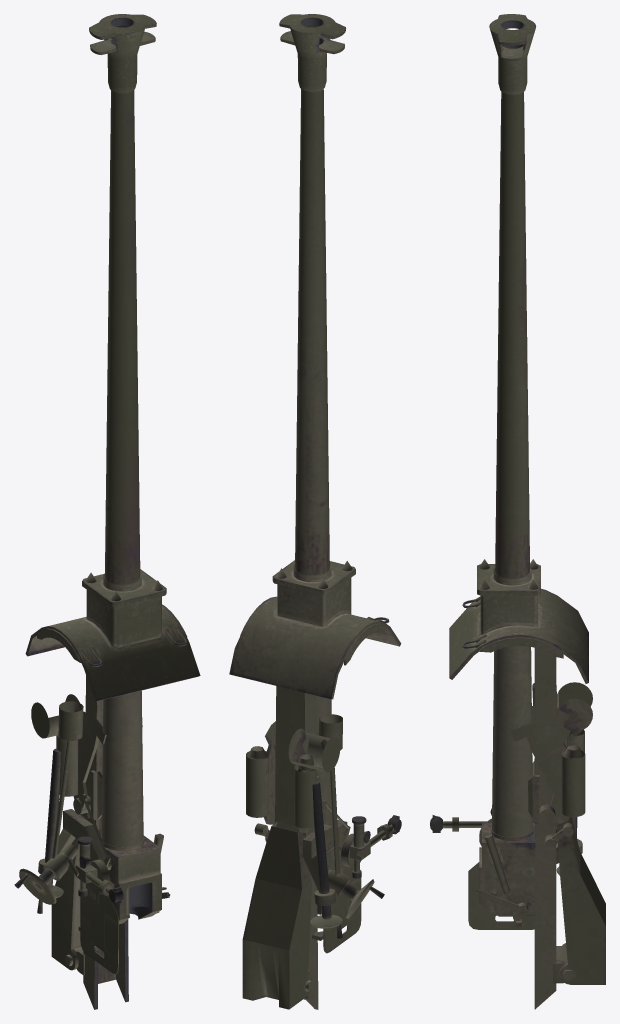
The model's file is Gun_05.glb.
3 renders of one model, left to right at view 1: azimuth 30°, elevation 25°; view 2: azimuth 150°, elevation 25°; view 3: azimuth 270°, elevation 25°, orthographic.
Visible parts, largest first — view 1: set_0_group_0; view 2: set_0_group_0; view 3: set_0_group_0.
Part boxes in pixels (x1,y1,x2,y2): set_0_group_0: [14, 14, 200, 1009]; set_0_group_0: [229, 14, 401, 1009]; set_0_group_0: [430, 14, 605, 1009].
Size of the model in its own units: 0.7199 by 4.96 by 0.8089.
Materials: 1 (1 with a texture image).
